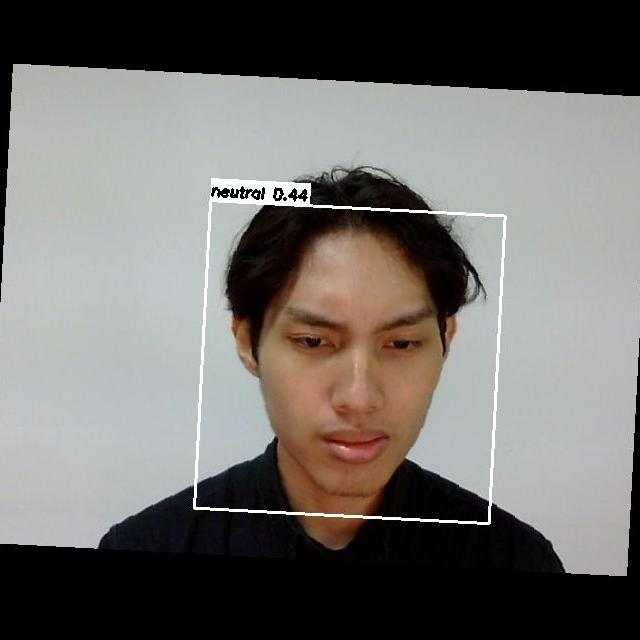Angry: (254, 272, 460, 478)
